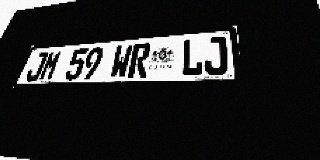5: (64, 48, 89, 80)
9: (80, 47, 105, 80)
J: (204, 36, 228, 76), (24, 51, 49, 82)
L: (181, 38, 204, 76)
M: (38, 50, 63, 81)
R: (127, 43, 152, 78)
W: (109, 44, 133, 79)
